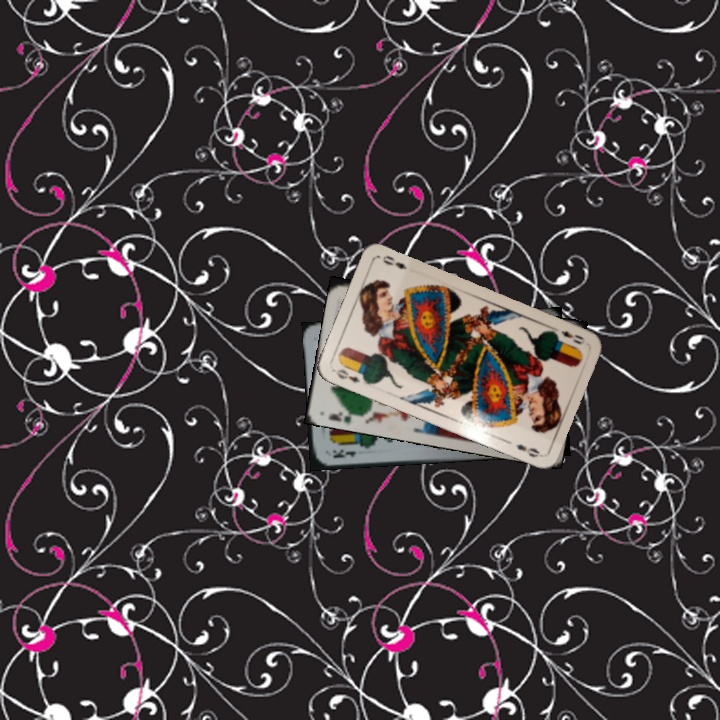EK: (329, 445, 359, 461)
EO: (329, 365, 363, 385), (557, 327, 588, 347)
GK: (324, 405, 362, 426)
